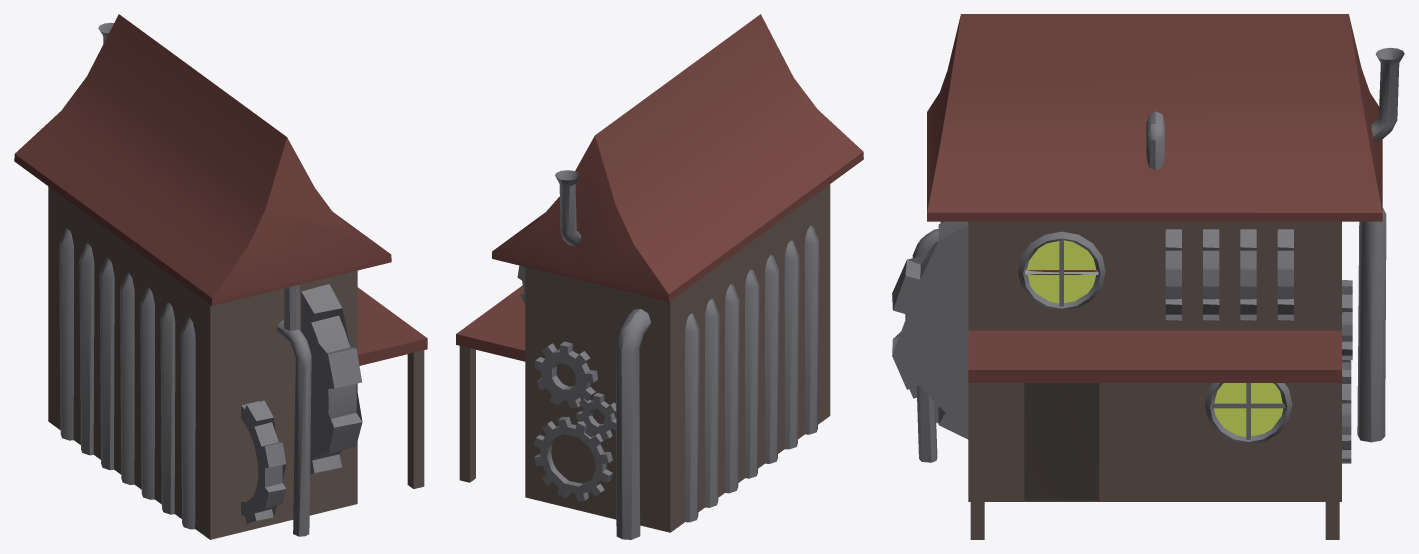
Rendered from factory.fbx.
The picture shows the model from 3 angles, left to right: view 1: azimuth 30°, elevation 25°; view 2: azimuth 150°, elevation 25°; view 3: azimuth 270°, elevation 25°; orthographic projection. The views are drawn at different scales.
Visible parts, largest first — view 1: factory; view 2: factory; view 3: factory.
Boxes of the visible parts, x1,y1,x2,y2 form: factory: (14, 14, 427, 539); factory: (456, 14, 863, 539); factory: (892, 14, 1404, 539).
Bounding box in the file's own units: 521 × 826 × 859.
Materials: 2 (1 with a texture image).
